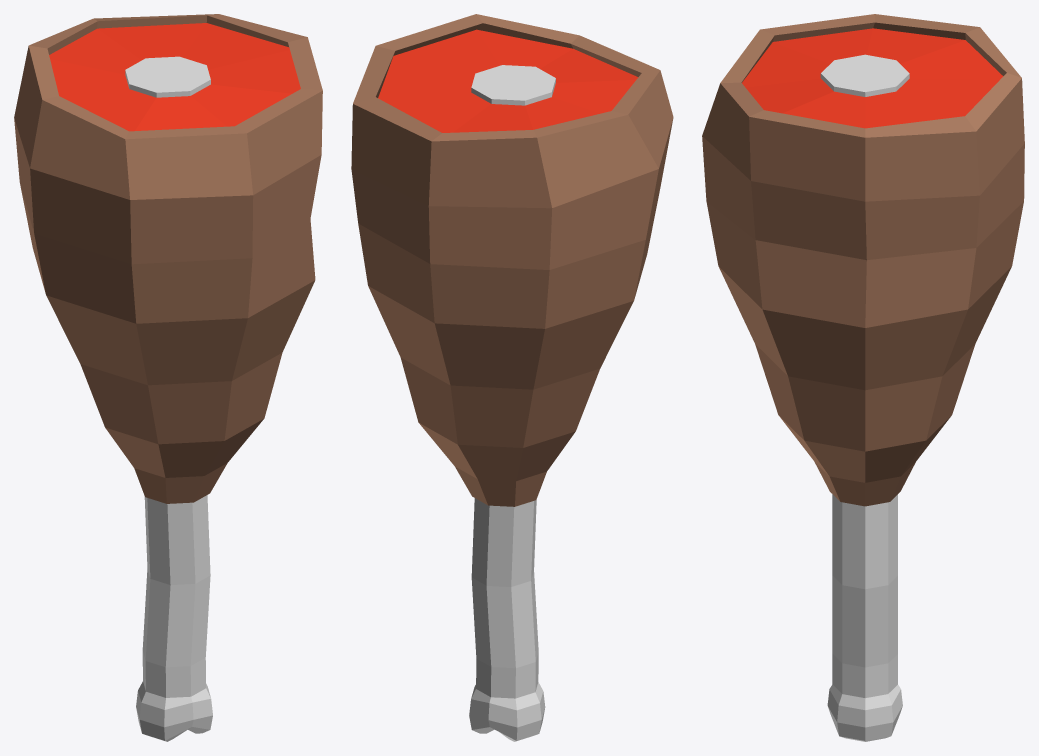
Rendered from uncookedMeat.fbx.
3 views of the same model, side by side, from view 1: azimuth 30°, elevation 25°; view 2: azimuth 150°, elevation 25°; view 3: azimuth 270°, elevation 25° (orthographic).
Visible parts, largest first — view 1: Plane; view 2: Plane; view 3: Plane.
Part boxes in pixels (<box>): Plane: <box>14,14,322,741</box>; Plane: <box>351,14,673,741</box>; Plane: <box>702,14,1024,741</box>.
Size of the model in its own units: 987 by 2219 by 984.
